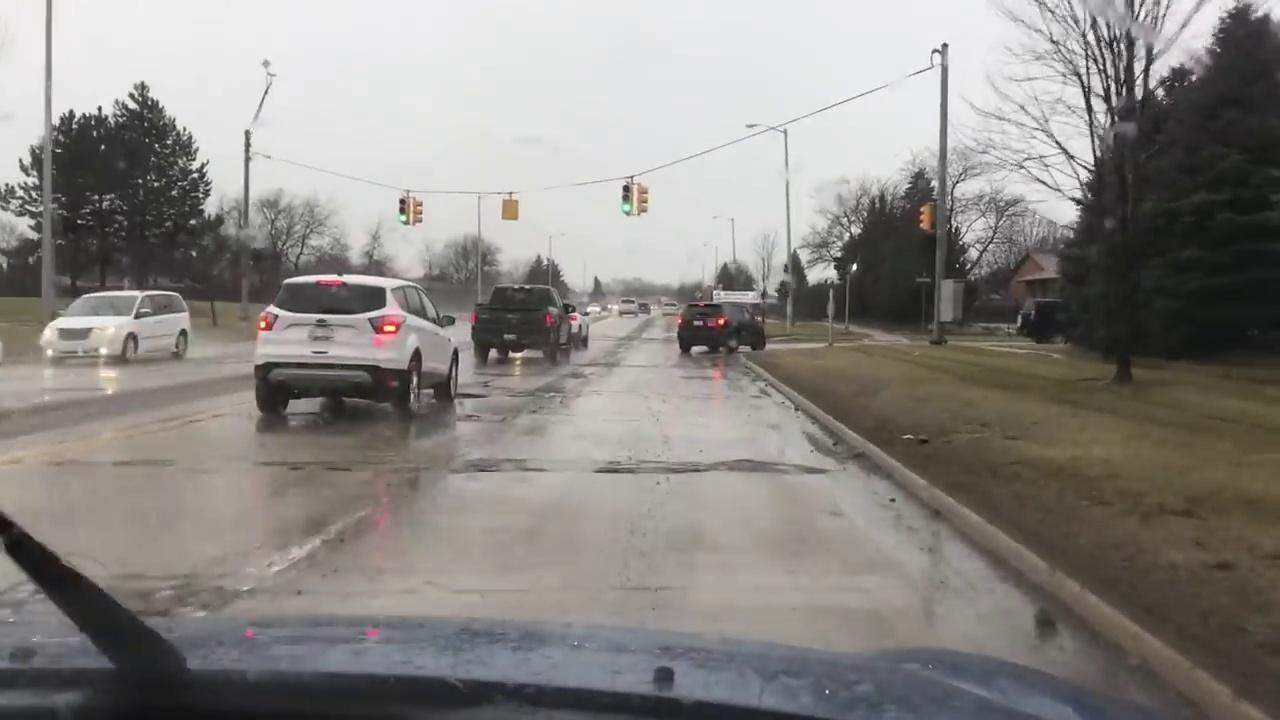pothole: (592, 453, 834, 477), (445, 453, 539, 476)
